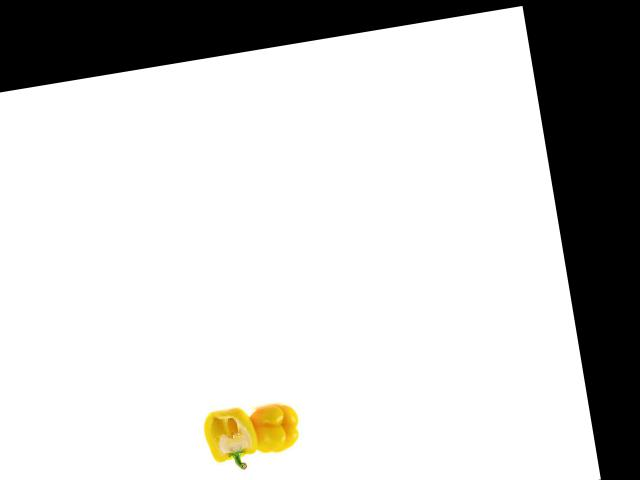bell_pepper: (196, 392, 270, 476)
